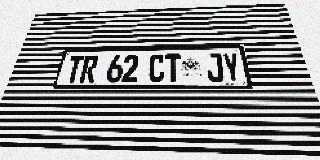2: (121, 54, 139, 83)
6: (106, 55, 124, 83)
C: (148, 54, 165, 82)
J: (205, 53, 225, 82)
R: (79, 55, 99, 83)
T: (64, 56, 85, 83), (165, 54, 181, 82)
Y: (221, 53, 242, 82)
